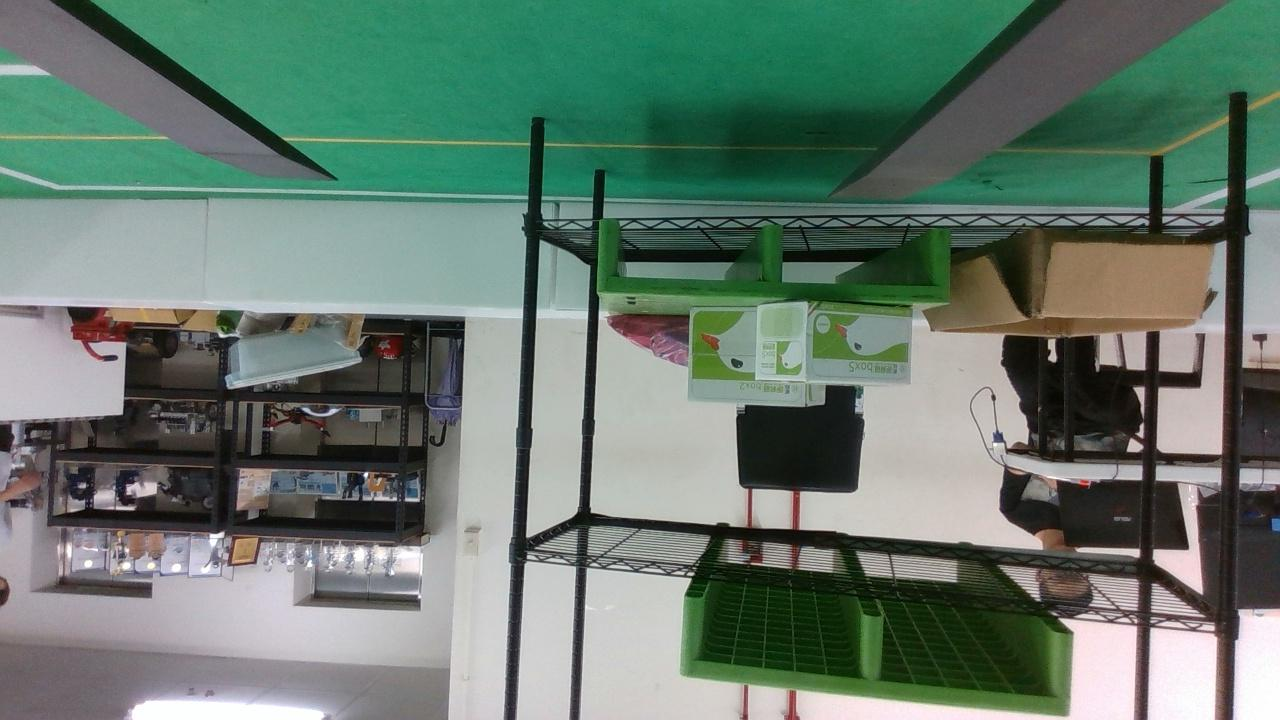Pallet: (677, 589, 1078, 713), (594, 217, 953, 307)
